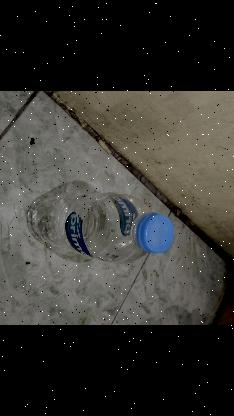Plastic Bottle: (23, 187, 174, 264)
